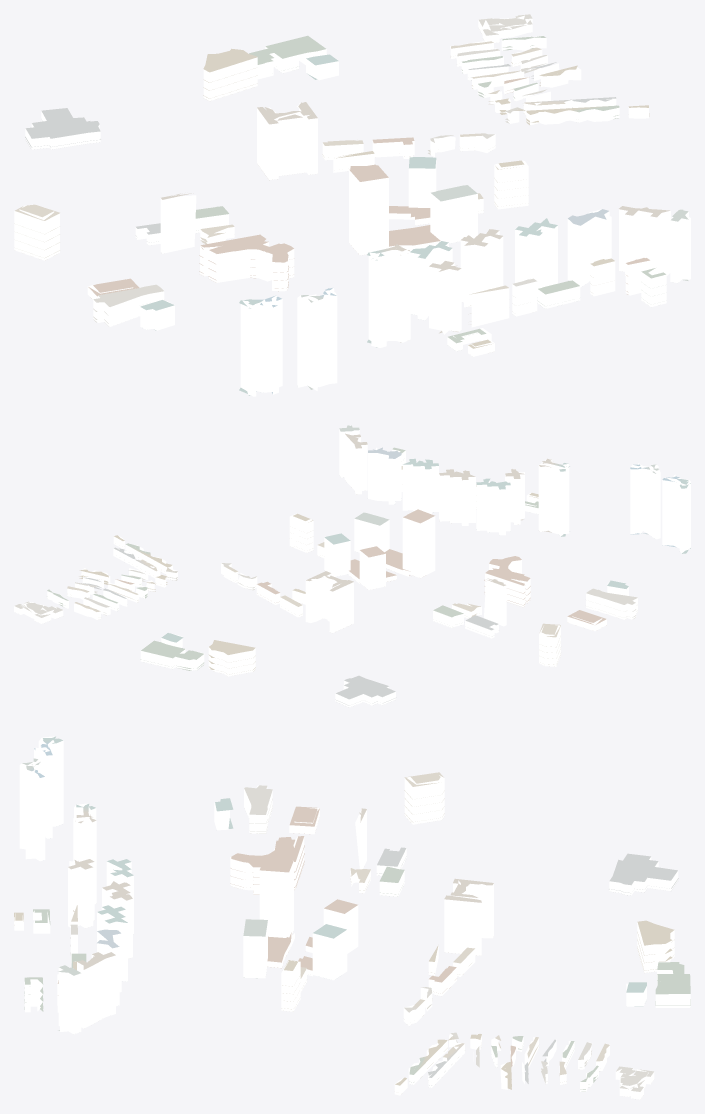
Rendered from buildings--6_2-coarse.glb.
3 views of the same model, one above another, from view 1: azimuth 30°, elevation 25°; view 2: azimuth 150°, elevation 25°; view 3: azimuth 270°, elevation 25° (orthographic). The views are drawn at different scales.
Parts seen in each view (by area): view 1: block_-6_2_office, block_-6_2_residential, block_-6_2_roof; view 2: block_-6_2_office, block_-6_2_residential, block_-6_2_roof; view 3: block_-6_2_office, block_-6_2_roof, block_-6_2_residential.
Part boxes in pixels (left/top/right/bottom): block_-6_2_office: left=140, top=59, right=690, bottom=396; block_-6_2_residential: left=14, top=15, right=666, bottom=356; block_-6_2_roof: left=14, top=14, right=688, bottom=395; block_-6_2_office: left=161, top=429, right=690, bottom=647; block_-6_2_residential: left=14, top=449, right=637, bottom=707; block_-6_2_roof: left=15, top=425, right=690, bottom=707; block_-6_2_office: left=19, top=736, right=646, bottom=1034; block_-6_2_roof: left=14, top=736, right=690, bottom=1099; block_-6_2_residential: left=14, top=775, right=690, bottom=1099.
Size of the model in its own units: 667 by 92.32 by 646.
